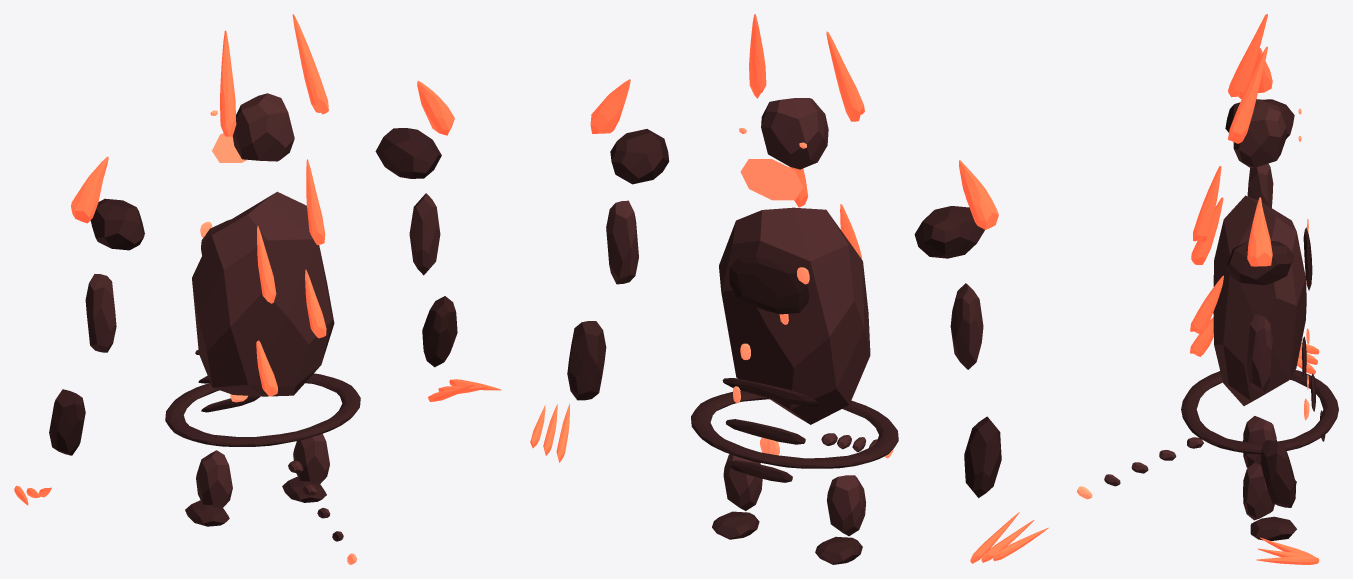
The model's file is rm_rf_boss.glb.
3 renders of one model, left to right at view 1: azimuth 30°, elevation 25°; view 2: azimuth 150°, elevation 25°; view 3: azimuth 270°, elevation 25°, orthographic. The views are drawn at different scales.
Visible parts, largest first — view 1: rm_rf_boss; view 2: rm_rf_boss; view 3: rm_rf_boss.
Part boxes in pixels (<box>): rm_rf_boss: <box>14,14,501,564</box>; rm_rf_boss: <box>530,14,1048,564</box>; rm_rf_boss: <box>1077,14,1338,564</box>.
Size of the model in its own units: 5.85 by 5.78 by 2.84.
